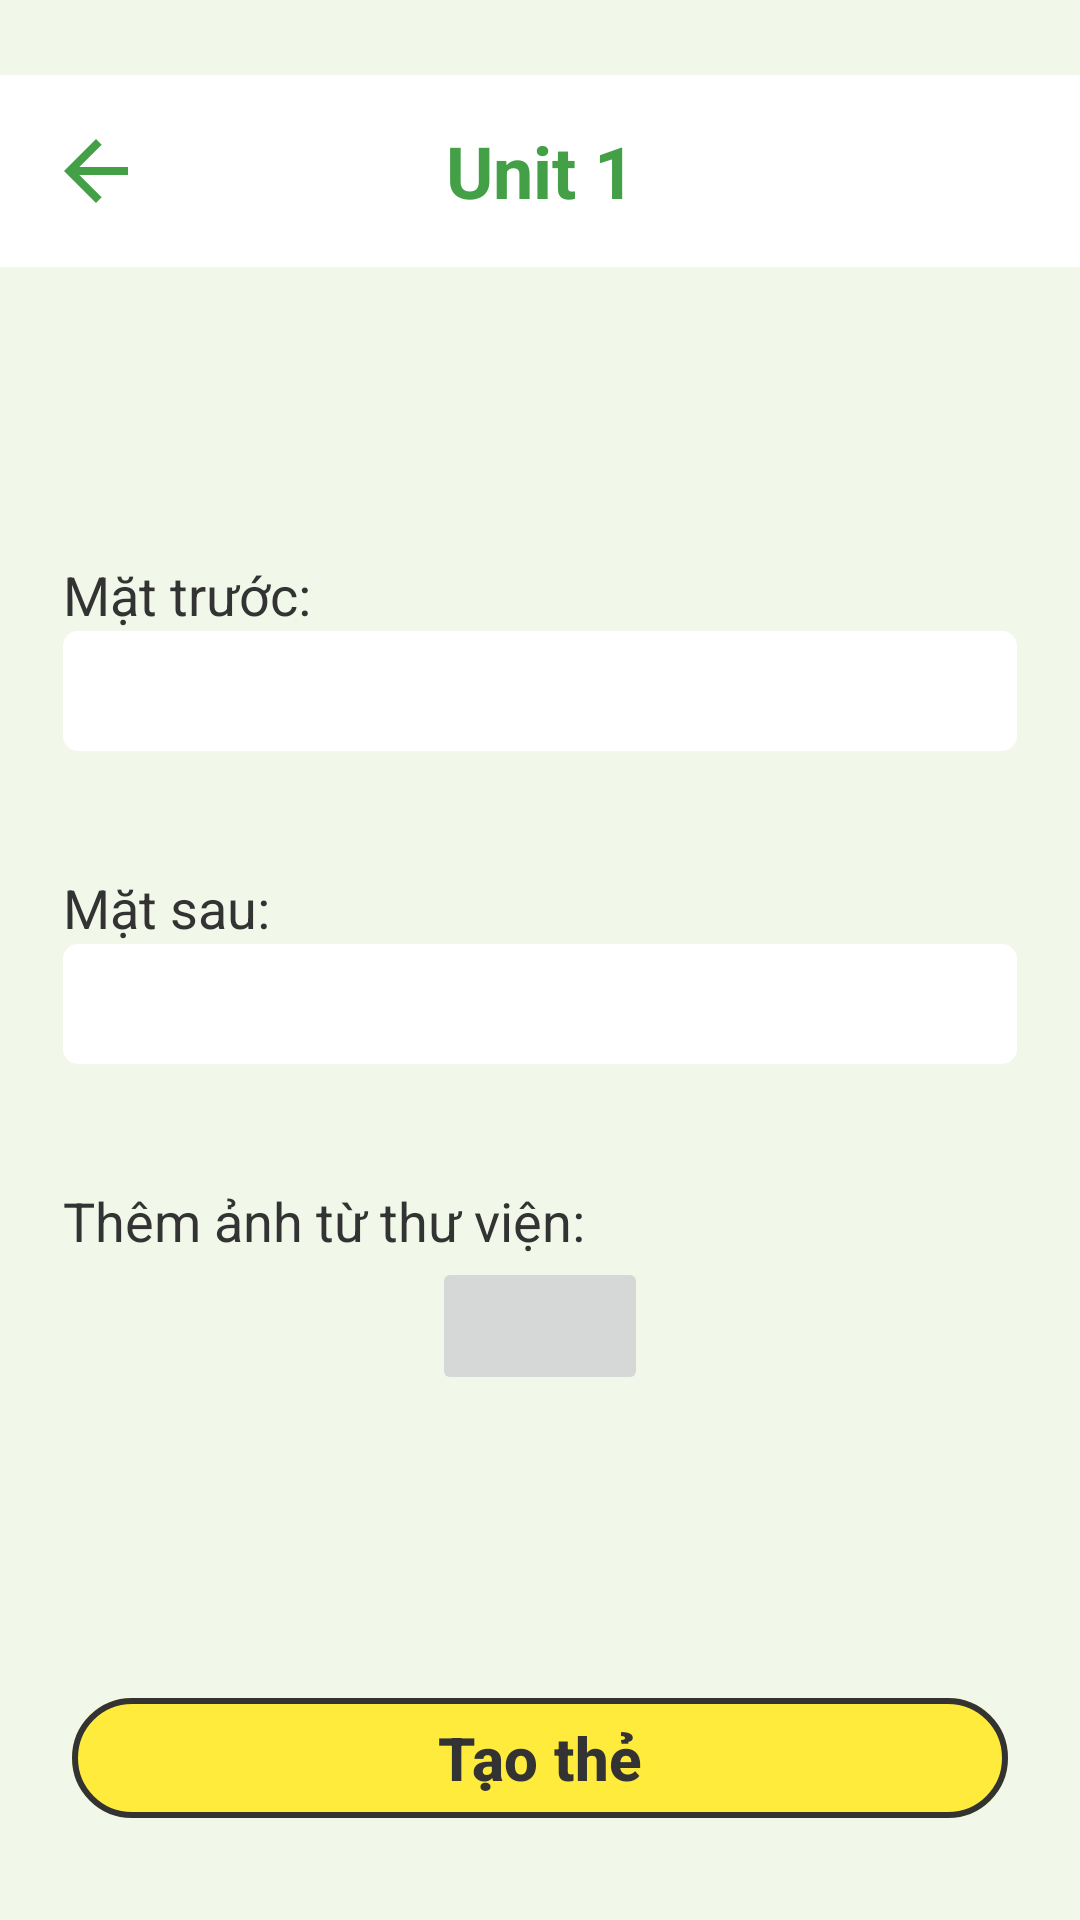

Point at icon controls on the screen. Image size 1080*1920, points as [x,y].
arrow back: [96,171]
